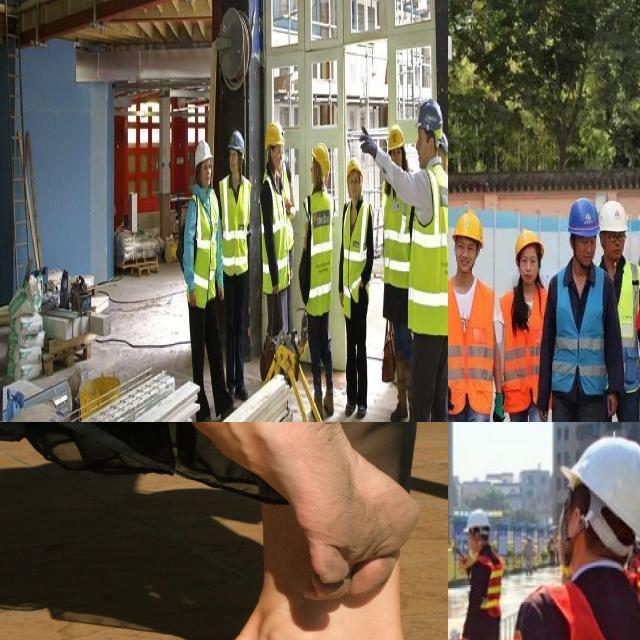Barefoots: (235, 422, 421, 601)
face_nomask: (414, 125, 436, 175), (199, 156, 211, 190), (268, 144, 284, 167), (347, 170, 360, 198), (228, 150, 240, 178)
glasses: (606, 228, 628, 245)
hand_glove: (356, 124, 382, 168), (490, 390, 507, 422), (448, 374, 454, 416)
hand_noglove: (606, 392, 618, 422), (187, 282, 197, 312), (217, 276, 225, 302), (455, 628, 471, 640)
head_helmet: (567, 433, 640, 537), (414, 98, 443, 146), (569, 199, 600, 238), (598, 198, 628, 237), (452, 210, 484, 246), (514, 232, 545, 260), (310, 140, 332, 179), (464, 503, 492, 528), (263, 123, 284, 153), (386, 124, 404, 156), (194, 140, 212, 170), (227, 129, 246, 156), (346, 157, 364, 183)
person: (512, 424, 640, 640), (388, 104, 448, 422), (184, 138, 232, 422), (552, 197, 609, 422), (299, 147, 338, 420), (448, 208, 496, 422), (382, 126, 415, 422), (220, 126, 255, 402), (599, 191, 640, 422), (504, 220, 549, 422), (340, 158, 370, 422), (259, 120, 292, 349), (458, 501, 511, 640), (632, 557, 640, 597)
shoes: (389, 398, 409, 422), (233, 376, 250, 401), (323, 385, 335, 419), (342, 393, 357, 420), (356, 396, 368, 421)
vest: (556, 273, 613, 405), (407, 163, 448, 336), (448, 281, 501, 406), (502, 290, 553, 401), (606, 259, 640, 381), (186, 184, 219, 304), (303, 186, 334, 312), (341, 200, 372, 316), (258, 174, 288, 292), (217, 170, 249, 273), (381, 182, 412, 288), (467, 551, 508, 617)
